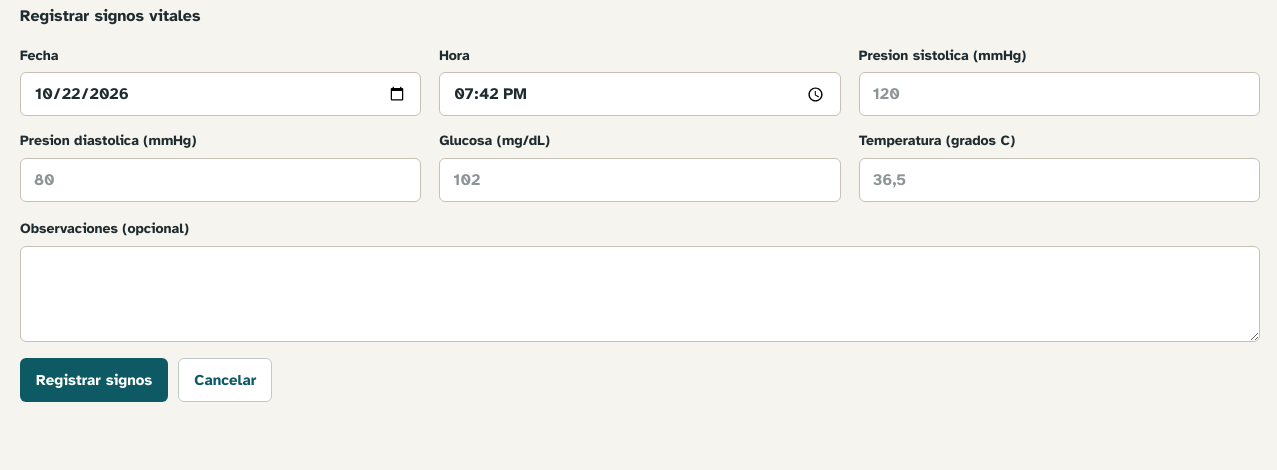
it: FormularioSignosVitales › exige al menos un signo vital
What coordinates should you click on to do the following:
click the button "Registrar signos"
I would click on:
 (94, 380)
Its box is [20, 358, 168, 402].
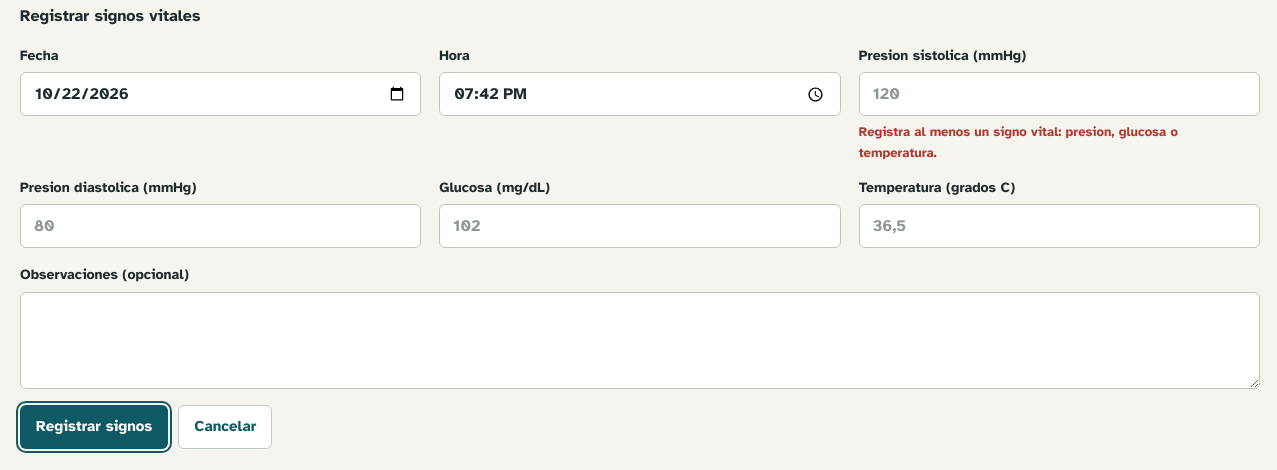
Expected: the text "al menos un signo vital" is shown, [859, 124, 1178, 161]
